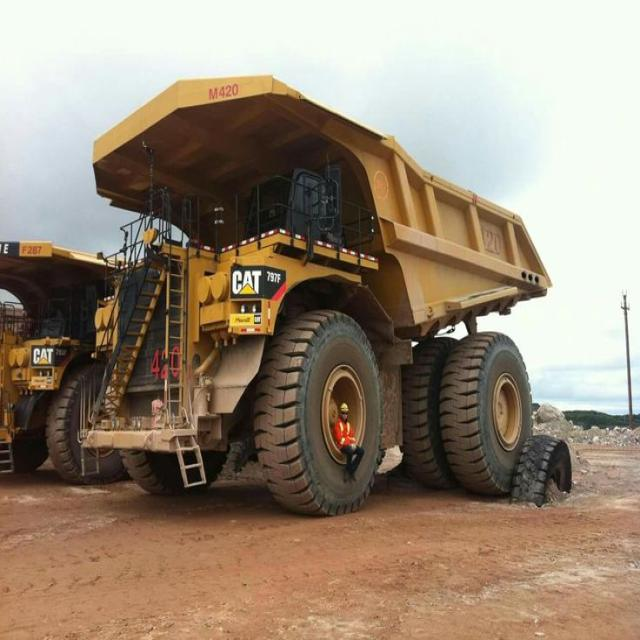dump_truck: (86, 69, 550, 519), (0, 226, 137, 490)
